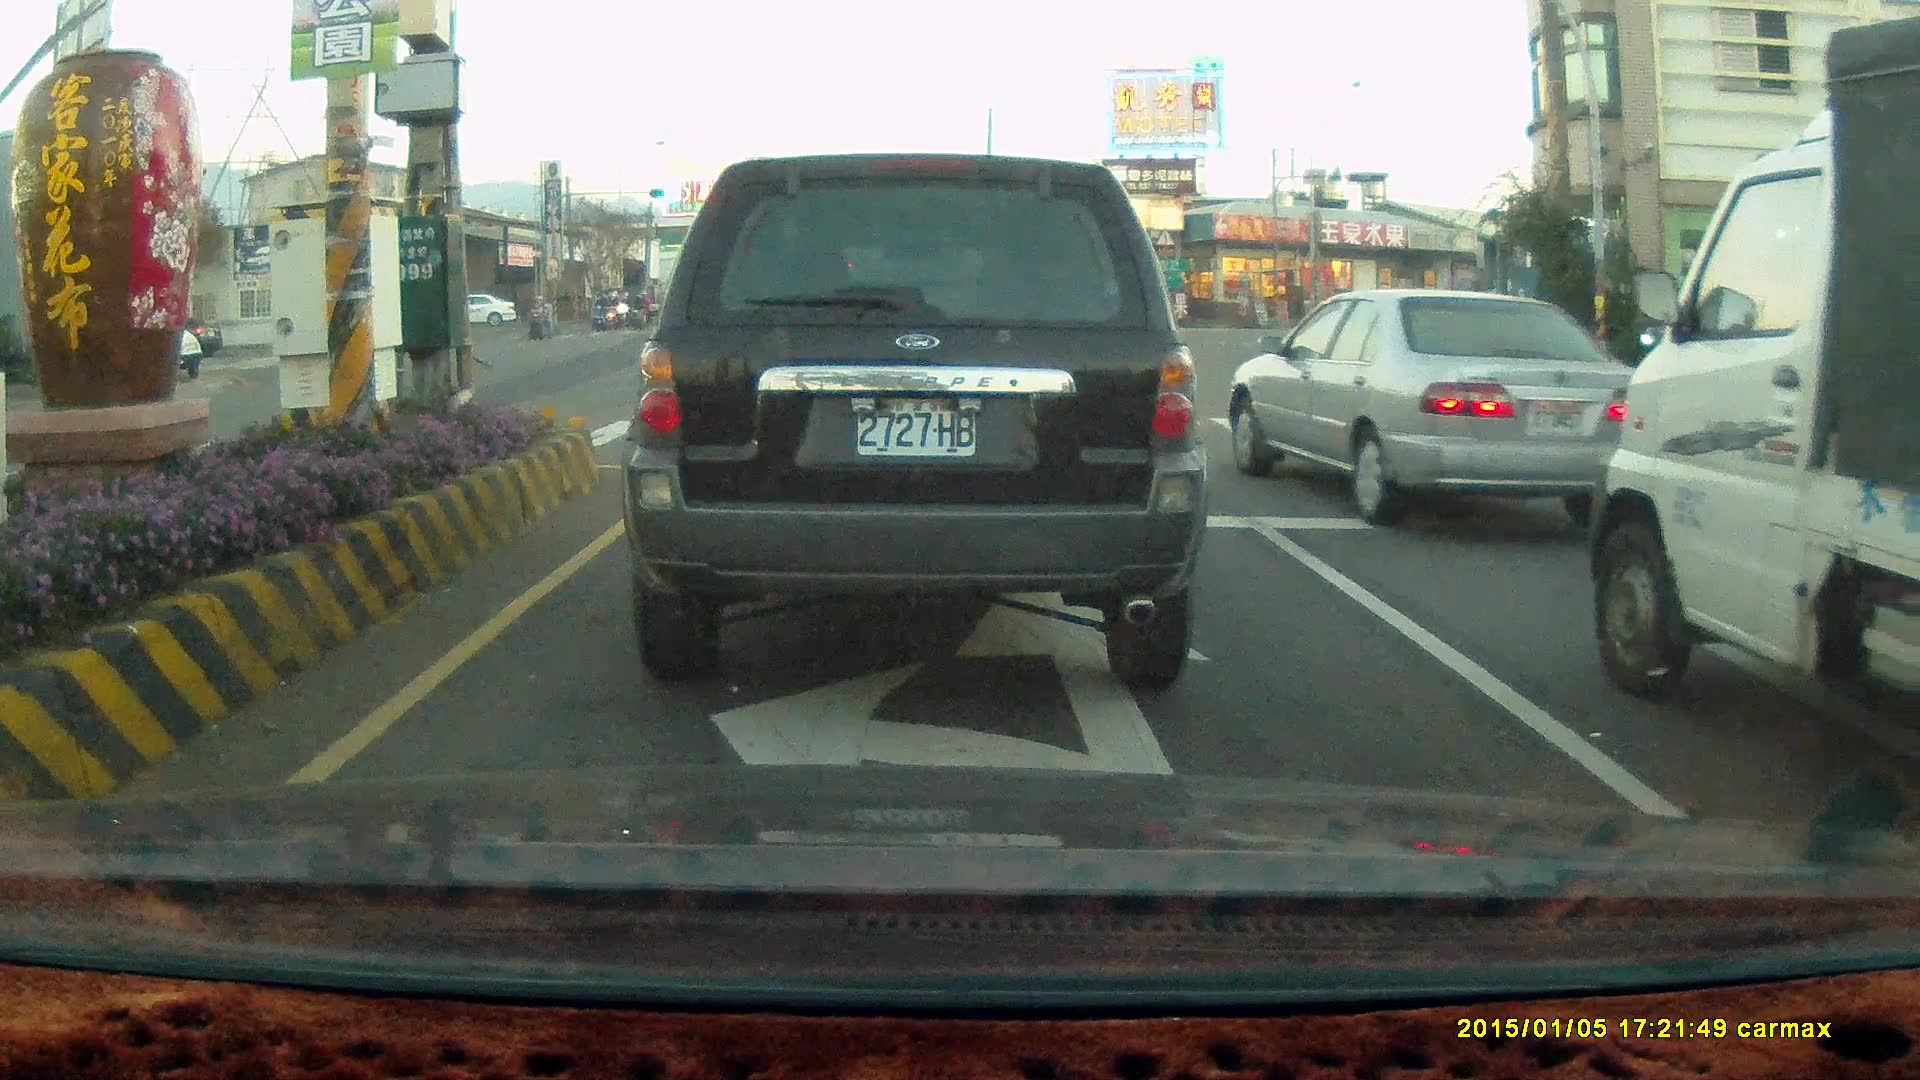rider: (521, 290, 552, 340), (626, 289, 649, 331), (589, 289, 610, 331), (592, 294, 614, 332)
vehicle: (617, 151, 1210, 695), (1584, 13, 1920, 784), (1222, 286, 1652, 528), (1224, 288, 1637, 528), (1672, 279, 1828, 371), (448, 295, 519, 328)
